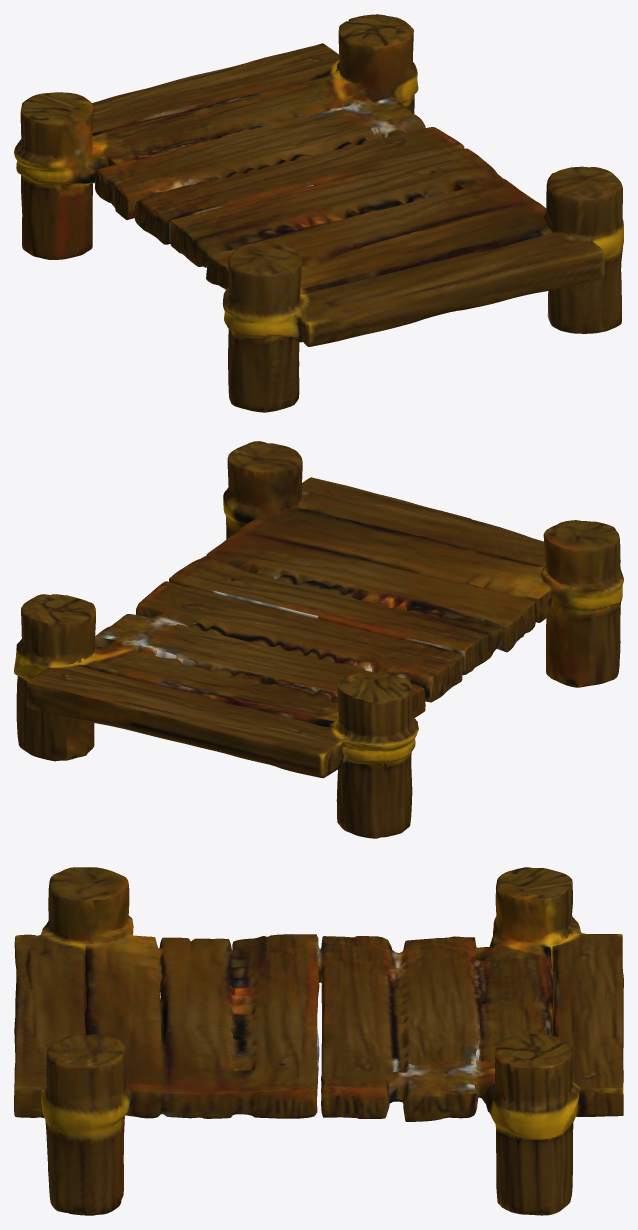
The model's file is ponte.glb.
3 renders of one model, top to bottom at view 1: azimuth 30°, elevation 25°; view 2: azimuth 150°, elevation 25°; view 3: azimuth 270°, elevation 25°, orthographic. The views are drawn at different scales.
Parts seen in each view (by area): view 1: ponte; view 2: ponte; view 3: ponte.
Part boxes in pixels (<box>): ponte: <box>14,14,623,412</box>; ponte: <box>14,441,623,838</box>; ponte: <box>14,867,623,1215</box>.
Size of the model in its own units: 0.2515 by 0.0859 by 0.3122.
1 material, 1 textured.
